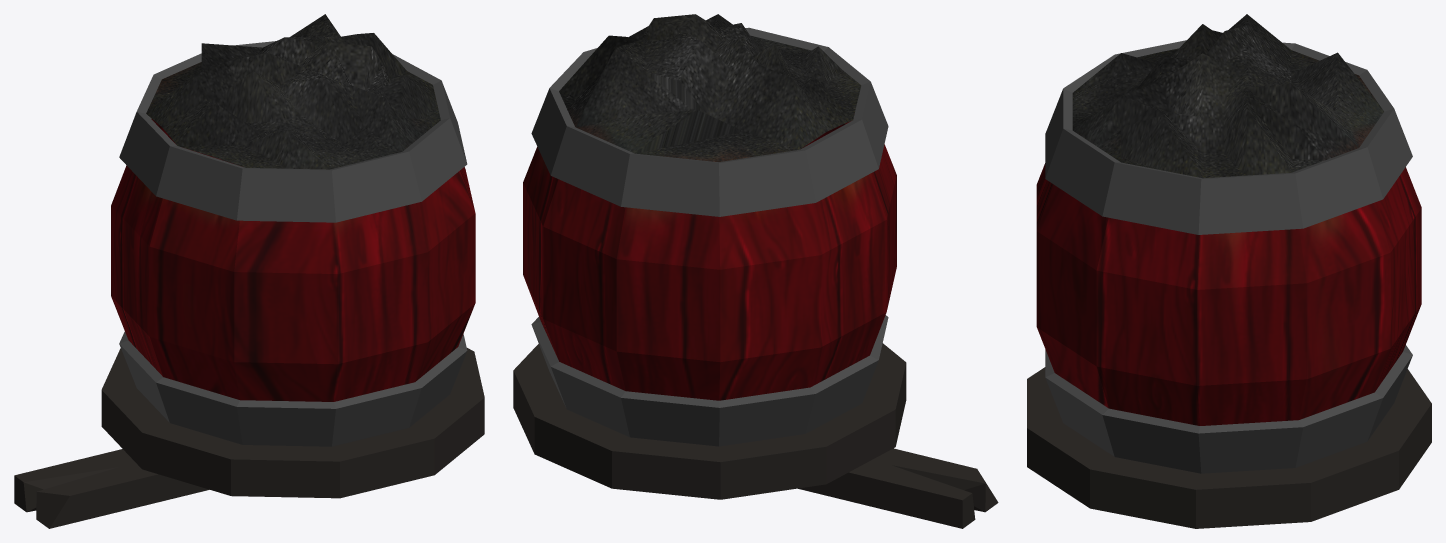
Rendered from BarrilV2.fbx.
3 renders of one model, left to right at view 1: azimuth 30°, elevation 25°; view 2: azimuth 150°, elevation 25°; view 3: azimuth 270°, elevation 25°, orthographic. The views are drawn at different scales.
Visible parts, largest first — view 1: Barril Polvora.001; view 2: Barril Polvora.001; view 3: Barril Polvora.001.
Part boxes in pixels (x1=…): Barril Polvora.001: x1=14, y1=14, x2=484, y2=528; Barril Polvora.001: x1=513, y1=14, x2=998, y2=528; Barril Polvora.001: x1=1027, y1=14, x2=1431, y2=528.
Bounding box in the file's own units: 187 × 171 × 143.
3 materials, 1 textured.
